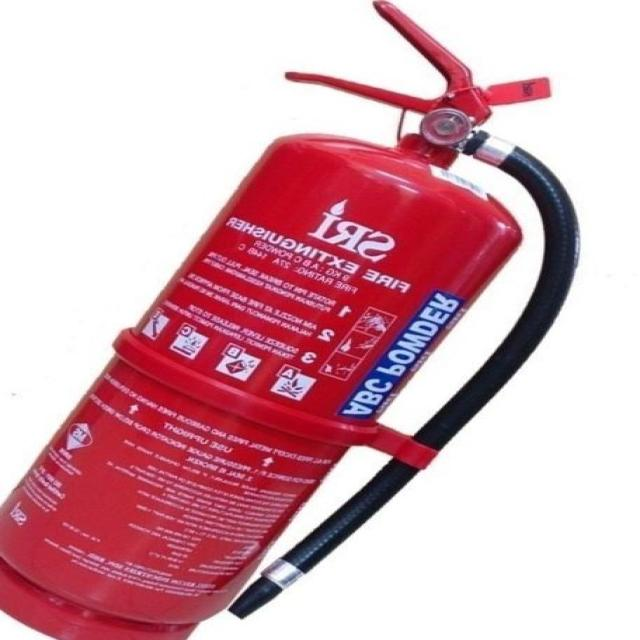fire_extinguisher: (0, 0, 594, 639)
